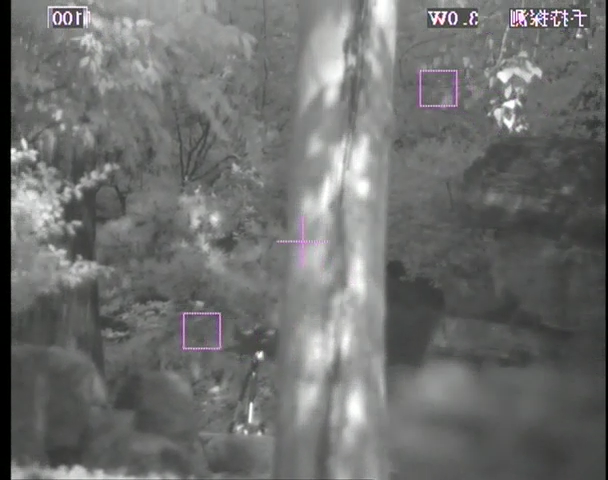my: (255, 350, 265, 362)
